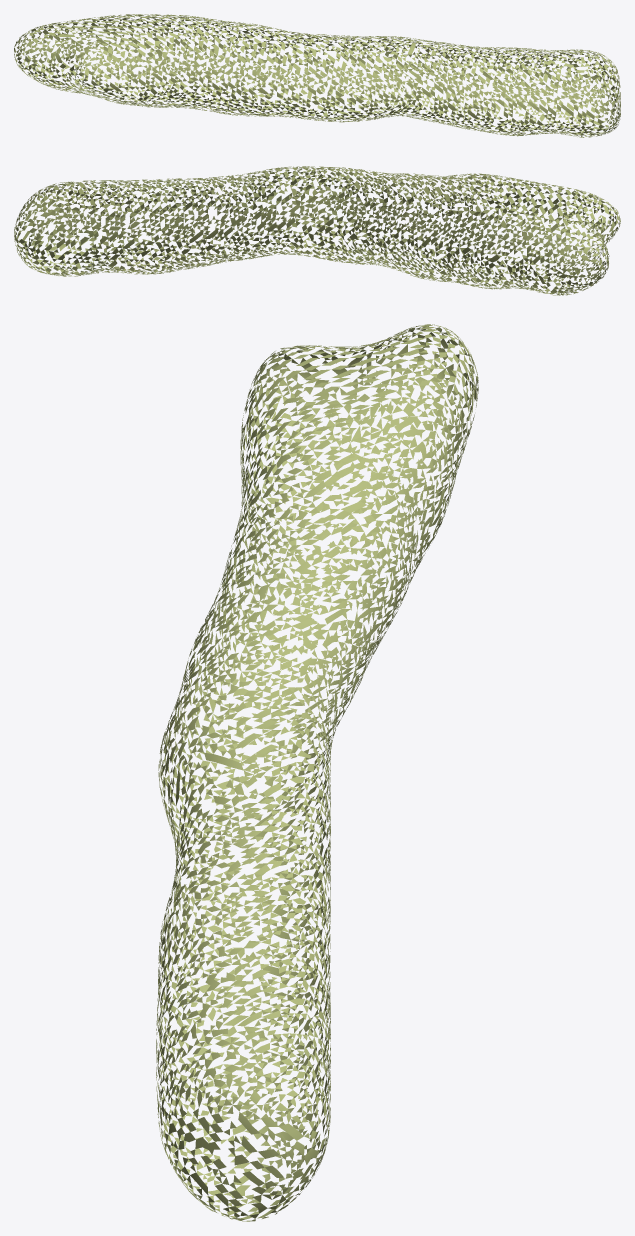
Rendered from morph_010.glb.
The picture shows the model from 3 angles, top to bottom: view 1: azimuth 30°, elevation 25°; view 2: azimuth 150°, elevation 25°; view 3: azimuth 270°, elevation 25°; orthographic projection. The views are drawn at different scales.
Size of the model in its own units: 96.69 by 32.62 by 24.23.
